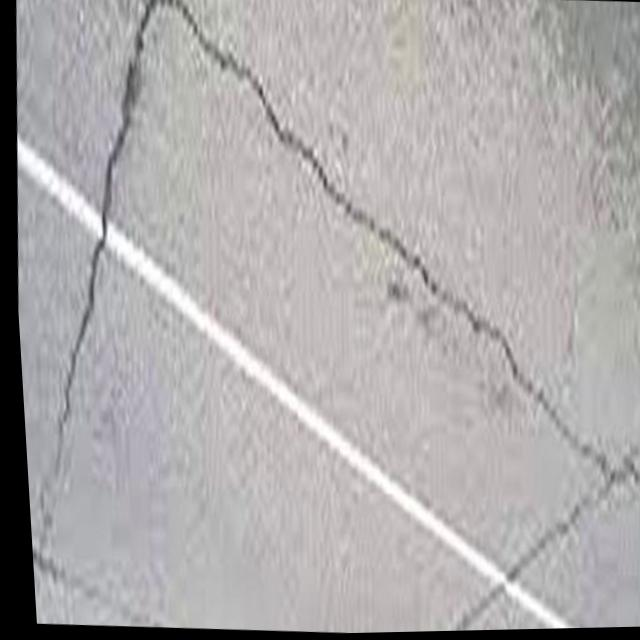Crack: (0, 0, 194, 630), (277, 157, 527, 293), (485, 335, 640, 506), (121, 12, 288, 158)
